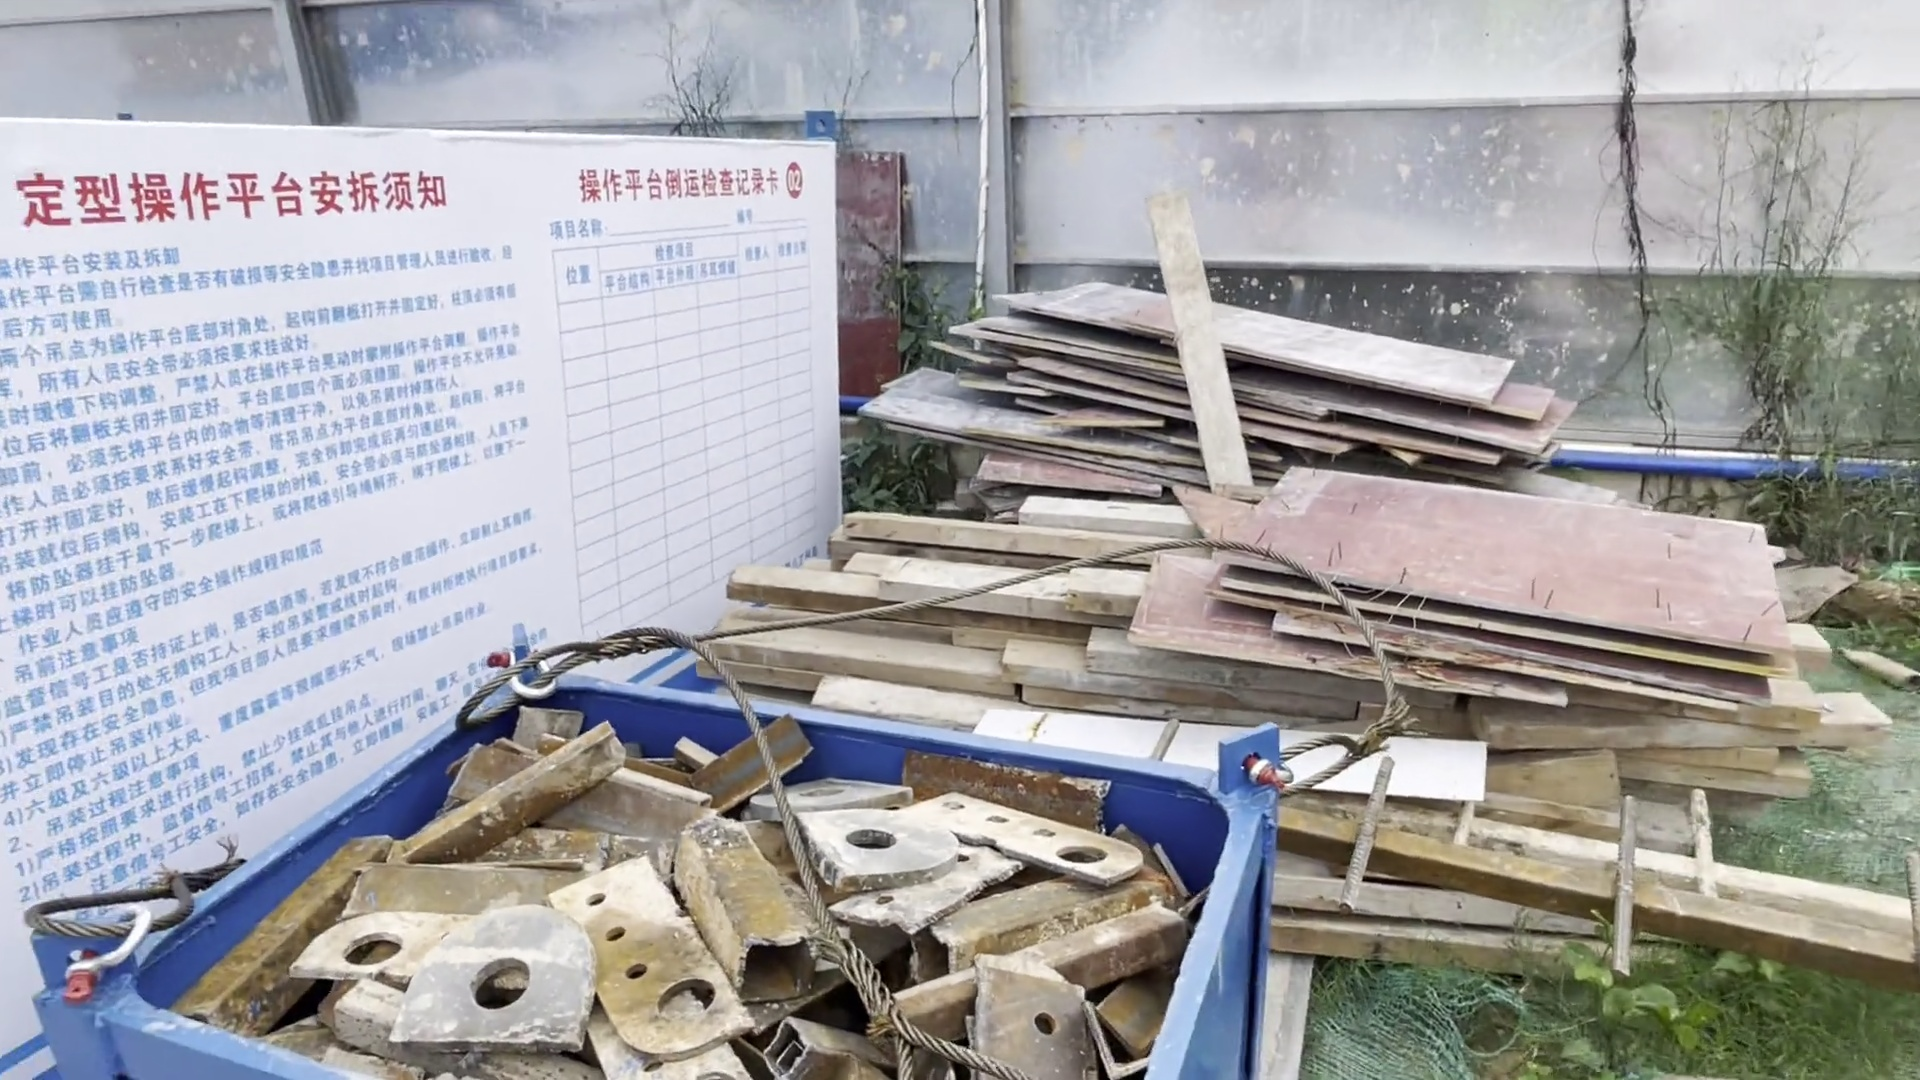board: (1153, 471, 1822, 738), (856, 272, 1553, 524)
hopper: (29, 640, 1302, 1080)
wood: (754, 512, 1203, 783)
